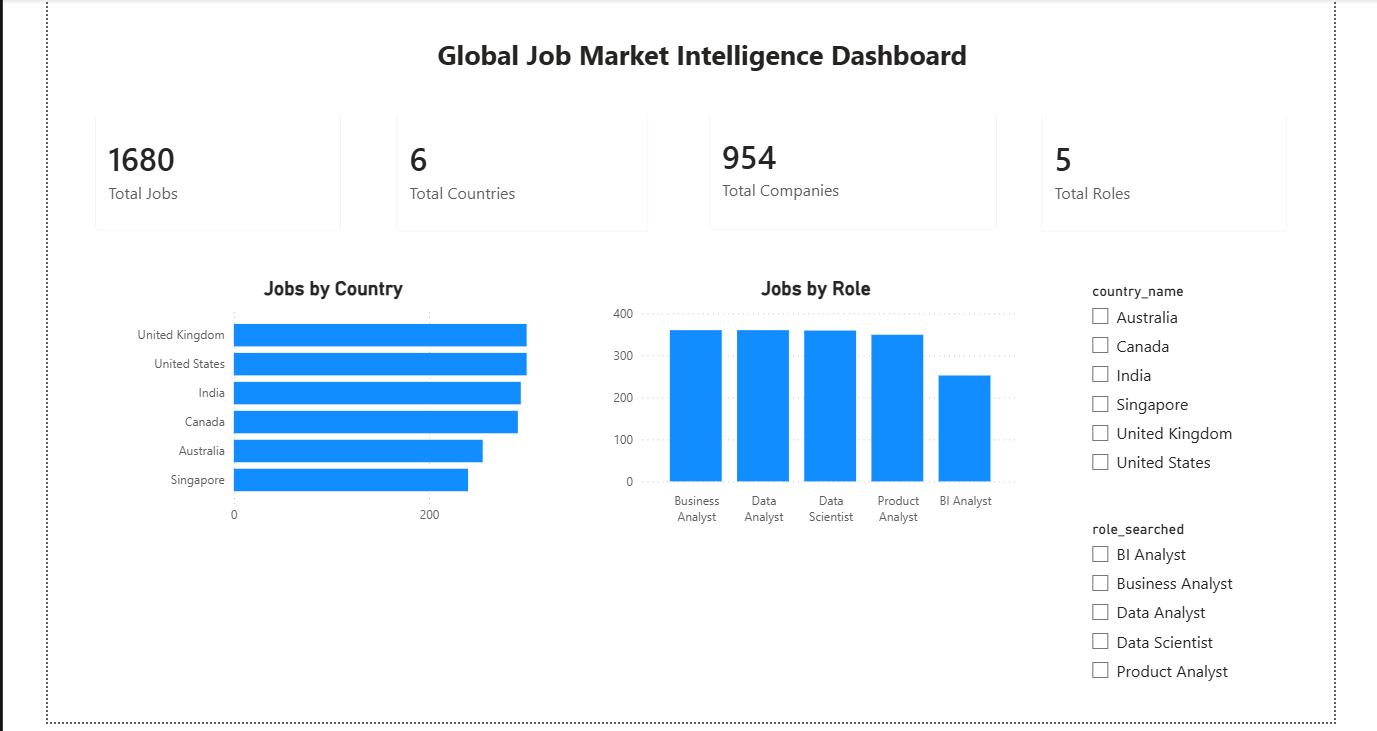

What the dashboard file says about the page in this screenshot:
{"tool":"powerbi","page":{"name":"Overview","canvas":[1280,720],"ordinal":0},"visuals":[{"type":"cardVisual","fields":{"Data":["job_market_dashboard_dataset.Total Countries"]},"box":[329.3,87.8,285.4,161.9],"z":0},{"type":"cardVisual","fields":{"Data":["job_market_dashboard_dataset.Total Companies"]},"box":[640.8,86.4,321.1,161.9],"z":1000},{"type":"cardVisual","fields":{"Data":["job_market_dashboard_dataset.Total Roles"]},"box":[971.5,87.8,279.9,161.9],"z":2000},{"type":"cardVisual","fields":{"Data":["job_market_dashboard_dataset.Total Jobs"]},"box":[30.2,87.8,279.9,160.5],"z":3000},{"type":"clusteredBarChart","title":"Jobs by Country","fields":{"Category":["job_market_dashboard_dataset.country_name"],"Y":["CountNonNull(job_market_dashboard_dataset.job_id)"]},"box":[76.8,277.2,414.4,253.9],"z":4000},{"type":"clusteredColumnChart","title":"Jobs by Role","fields":{"Category":["job_market_dashboard_dataset.role_searched"],"Y":["CountNonNull(job_market_dashboard_dataset.job_id)"]},"box":[557.1,277.2,414.4,253.9],"z":5000},{"type":"textbox","box":[0,32.9,1280.3,83.7],"z":6000},{"type":"slicer","fields":{"Values":["job_market_dashboard_dataset.country_name"]},"box":[1026.4,277.2,168.8,207.2],"z":7000},{"type":"slicer","fields":{"Values":["job_market_dashboard_dataset.role_searched"]},"box":[1026.4,513.2,181.1,207.2],"z":8000}]}

Visuals, with their boxes on the page's 1280x720 design canvas (x1, y1, x2, y2). These are canvas units, not pixel positions in the 1377x731 screenshot, which may show the page scaled, cropped or inside an application window:
cardVisual - job_market_dashboard_dataset.Total Countries: Rect(329, 88, 615, 250)
cardVisual - job_market_dashboard_dataset.Total Companies: Rect(641, 86, 962, 248)
cardVisual - job_market_dashboard_dataset.Total Roles: Rect(972, 88, 1251, 250)
cardVisual - job_market_dashboard_dataset.Total Jobs: Rect(30, 88, 310, 248)
"Jobs by Country" clusteredBarChart: Rect(77, 277, 491, 531)
"Jobs by Role" clusteredColumnChart: Rect(557, 277, 972, 531)
textbox: Rect(0, 33, 1280, 117)
slicer - job_market_dashboard_dataset.country_name: Rect(1026, 277, 1195, 484)
slicer - job_market_dashboard_dataset.role_searched: Rect(1026, 513, 1208, 720)
